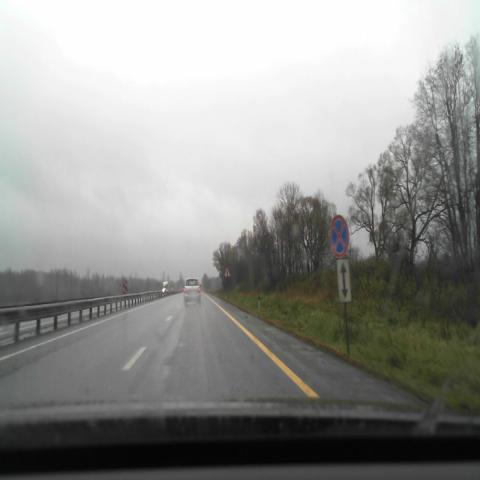3_27: (329, 215, 349, 258)
8_2_4: (336, 260, 352, 301)
